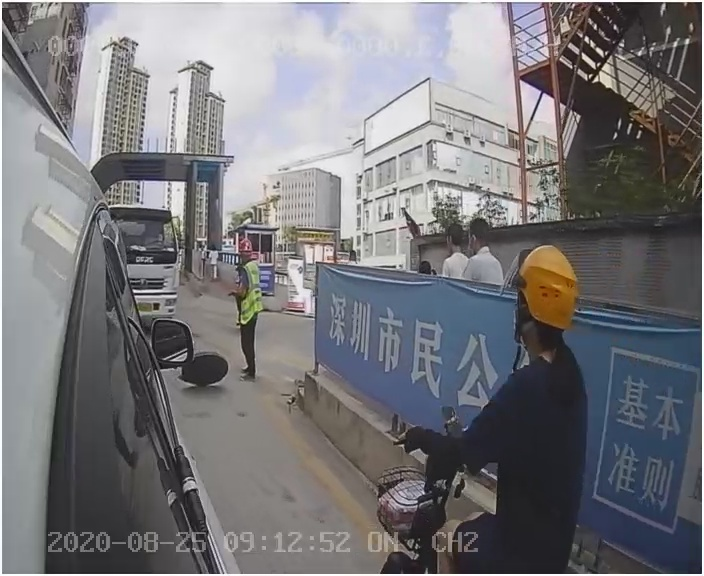person: (221, 236, 277, 381)
